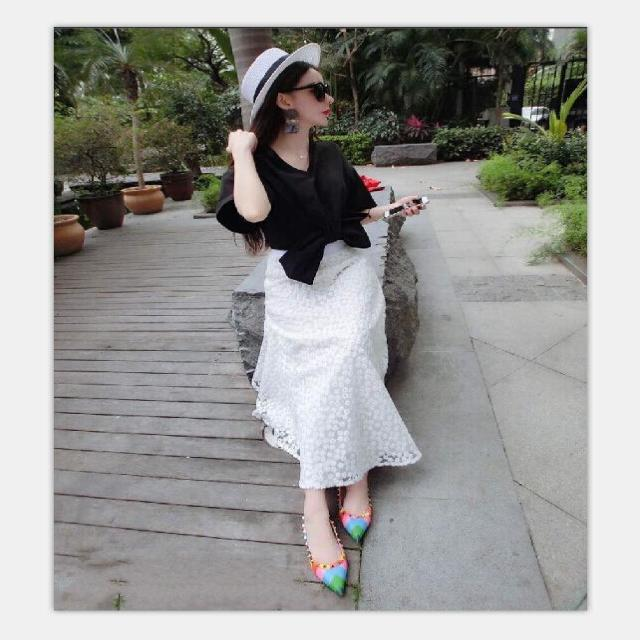short sleeve top: (215, 138, 376, 250)
skirt: (253, 239, 423, 488)
